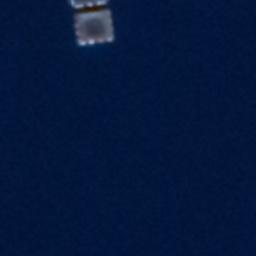square_solid: (70, 6, 117, 48)
